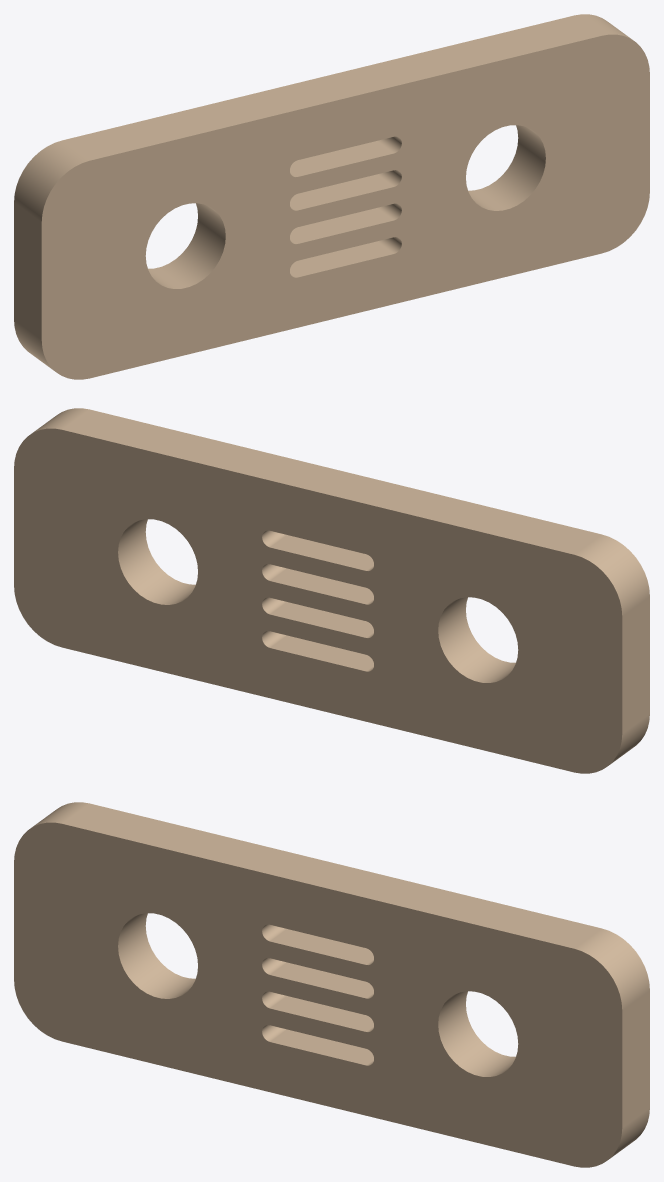
The model's file is fret wagon v17_fret wagon v17_wood version_1_belt lock_1_Body1.obj.
3 renders of one model, top to bottom at view 1: azimuth 30°, elevation 25°; view 2: azimuth 150°, elevation 25°; view 3: azimuth 330°, elevation 25°, orthographic.
Parts seen in each view (by area): view 1: Body1; view 2: Body1; view 3: Body1.
Boxes of the visible parts, <box> form: Body1: <box>14,14,649,379</box>; Body1: <box>14,408,649,773</box>; Body1: <box>14,802,649,1167</box>.
Bounding box in the file's own units: 38 × 13 × 3.
